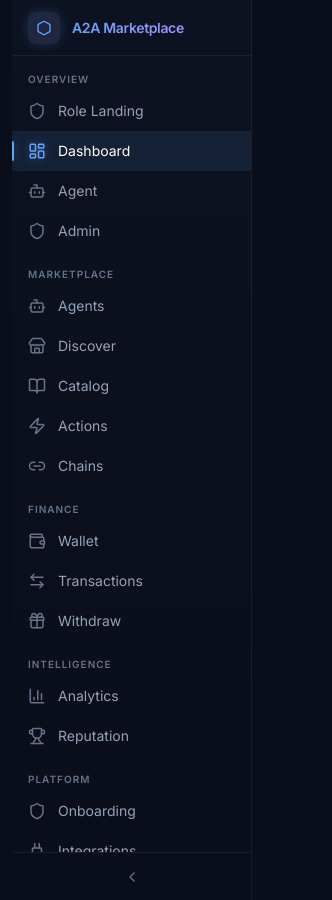
Test case: Sidebar › hides brand text and group titles when sidebar is collapsed
Collapse the sidebar
Click the 2nd button with class "hidden" at (132, 876), box [12, 852, 251, 899]
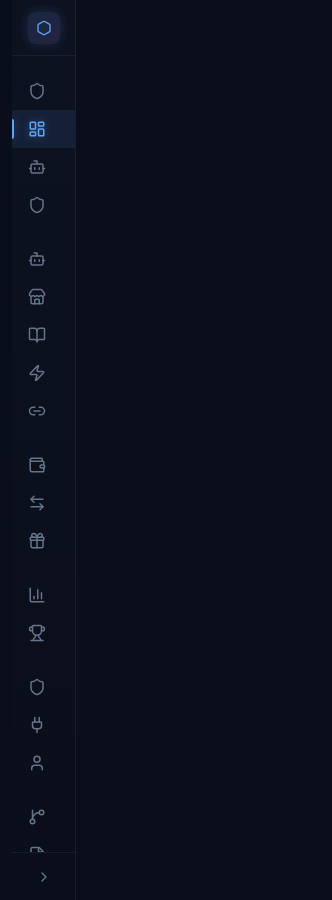
Now the text "A2A Marketplace" is gone
Now the text "Overview" is gone
Now the text "Marketplace" is gone
